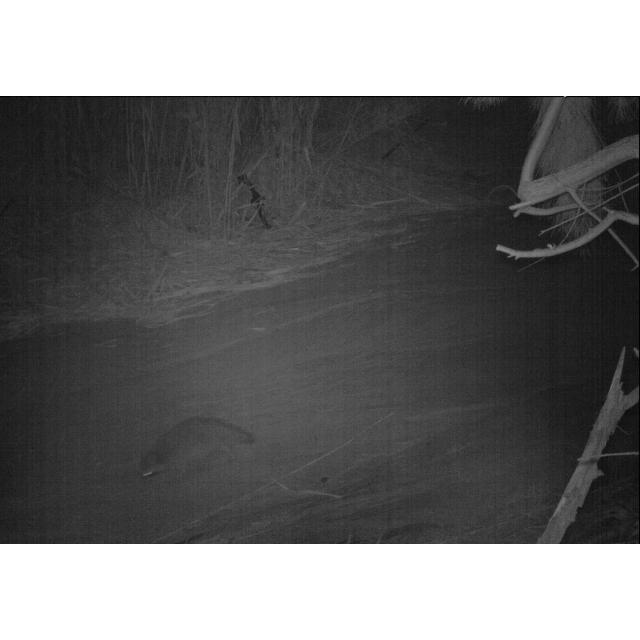animals: (136, 408, 262, 479)
